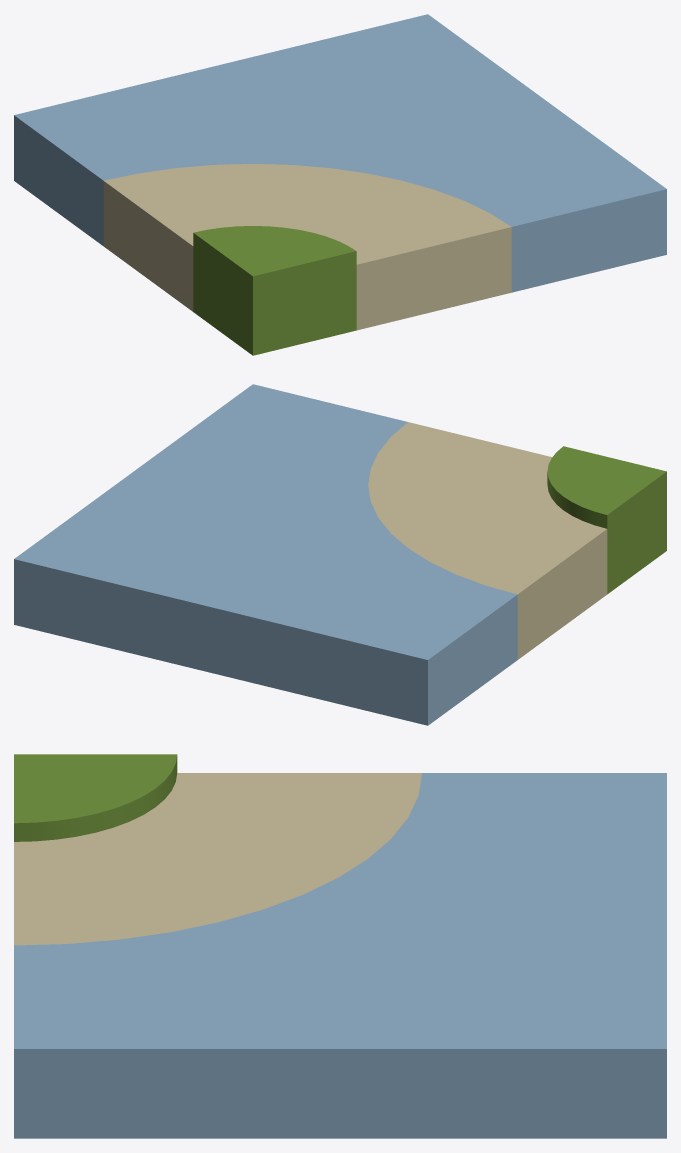
The model's file is roadTile_042.obj.
3 renders of one model, top to bottom at view 1: azimuth 30°, elevation 25°; view 2: azimuth 150°, elevation 25°; view 3: azimuth 270°, elevation 25°, orthographic. The views are drawn at different scales.
Parts seen in each view (by area): view 1: Mesh1_Group1_Model.149; view 2: Mesh1_Group1_Model.149; view 3: Mesh1_Group1_Model.149.
Part boxes in pixels (x1,y1,x2,y2): Mesh1_Group1_Model.149: (14,14,666,355); Mesh1_Group1_Model.149: (14,384,666,725); Mesh1_Group1_Model.149: (14,754,666,1138).
Bounding box in the file's own units: 3 × 0.55 × 3.
